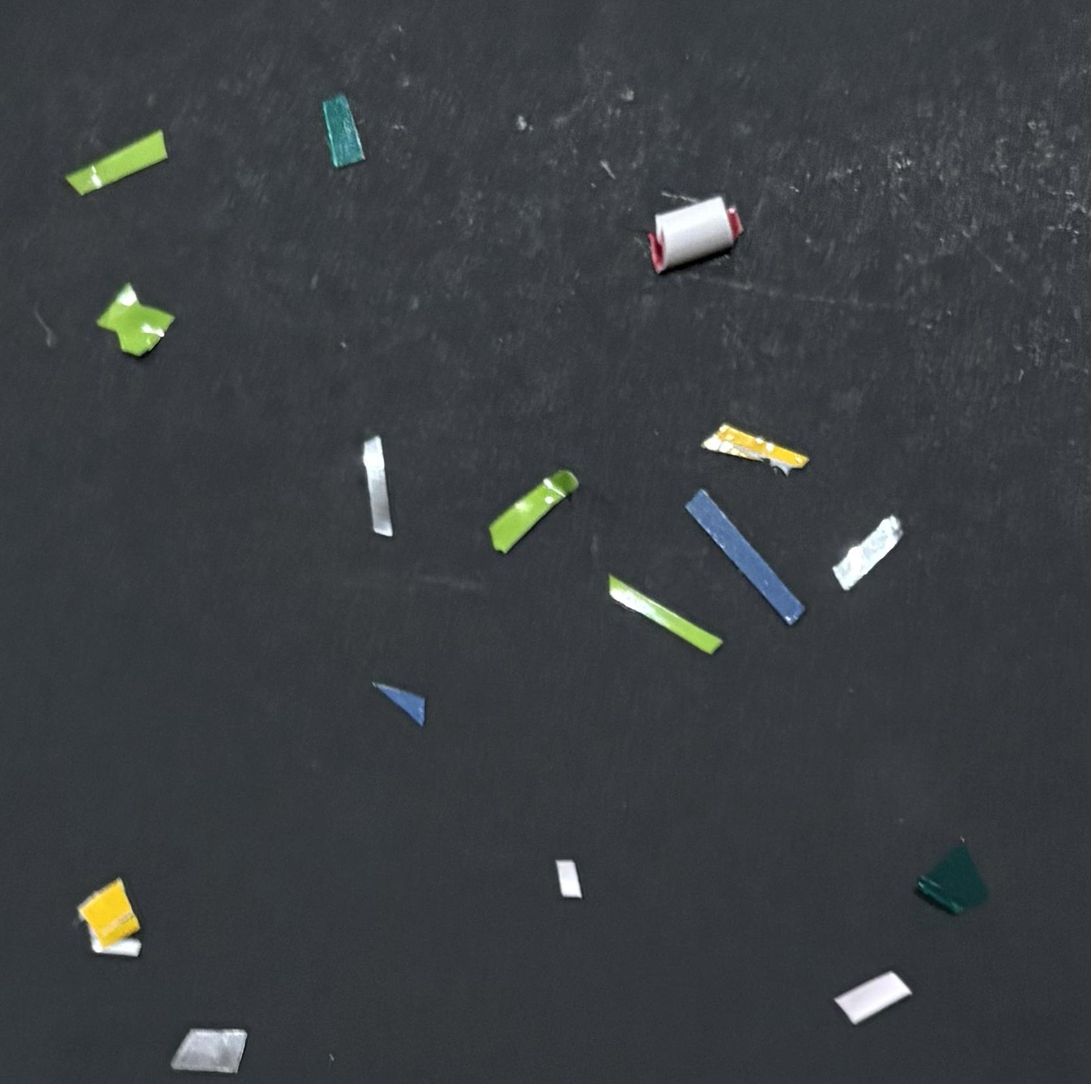Microplastic Particle: (685, 487, 805, 625), (598, 567, 724, 657), (477, 457, 581, 553), (338, 417, 410, 548), (683, 406, 812, 473), (827, 513, 923, 593), (645, 196, 743, 273), (844, 964, 929, 1039), (95, 280, 174, 357), (308, 92, 373, 183), (913, 838, 988, 914), (75, 876, 141, 957), (355, 659, 428, 727), (170, 1025, 248, 1074), (554, 851, 587, 916)
